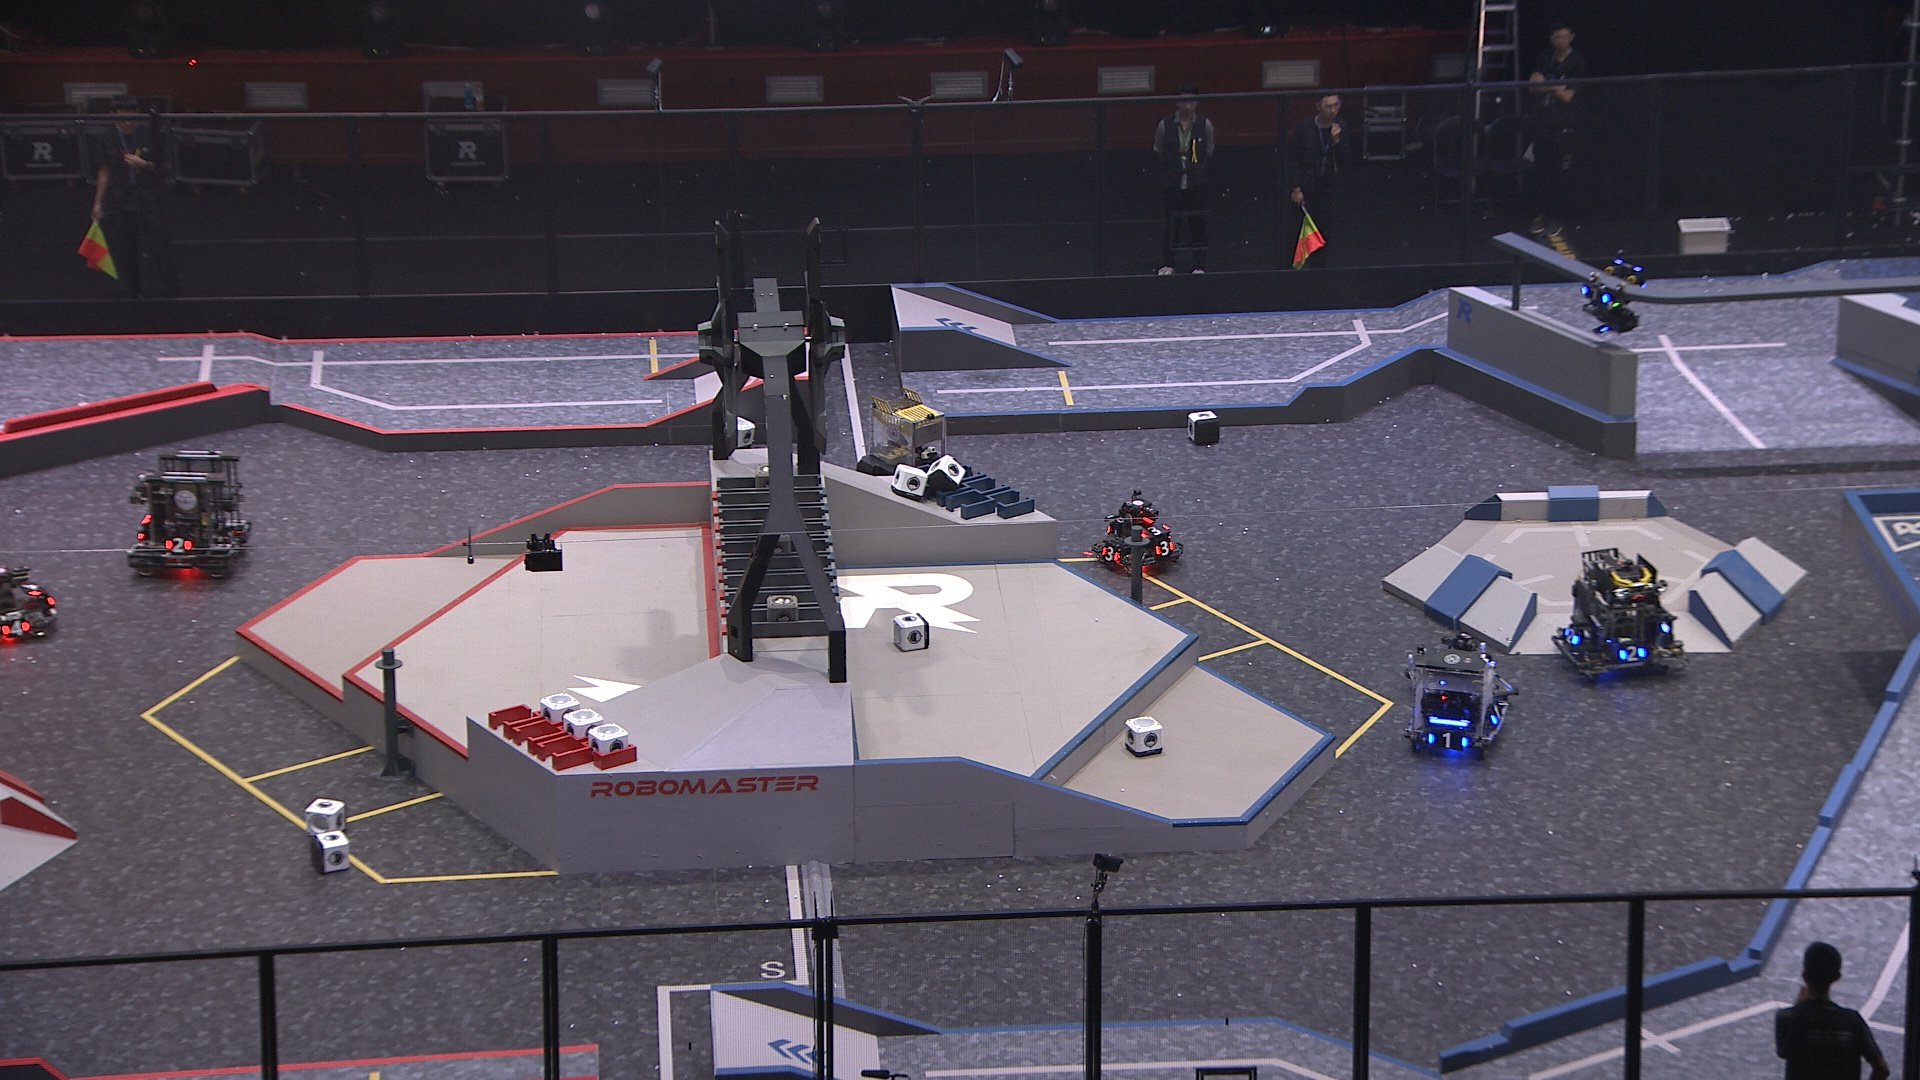armor: (1425, 728, 1466, 749), (166, 535, 193, 556), (1582, 285, 1607, 306), (1, 618, 32, 636), (1489, 698, 1506, 727), (1618, 645, 1646, 662), (1100, 545, 1121, 564), (1154, 538, 1176, 556), (1138, 524, 1168, 537), (22, 578, 44, 595), (1563, 626, 1580, 647)
car: (1553, 549, 1689, 683), (125, 451, 258, 576), (1406, 632, 1516, 757), (858, 389, 956, 491), (1087, 491, 1185, 576)
watcher: (1580, 253, 1650, 335)
